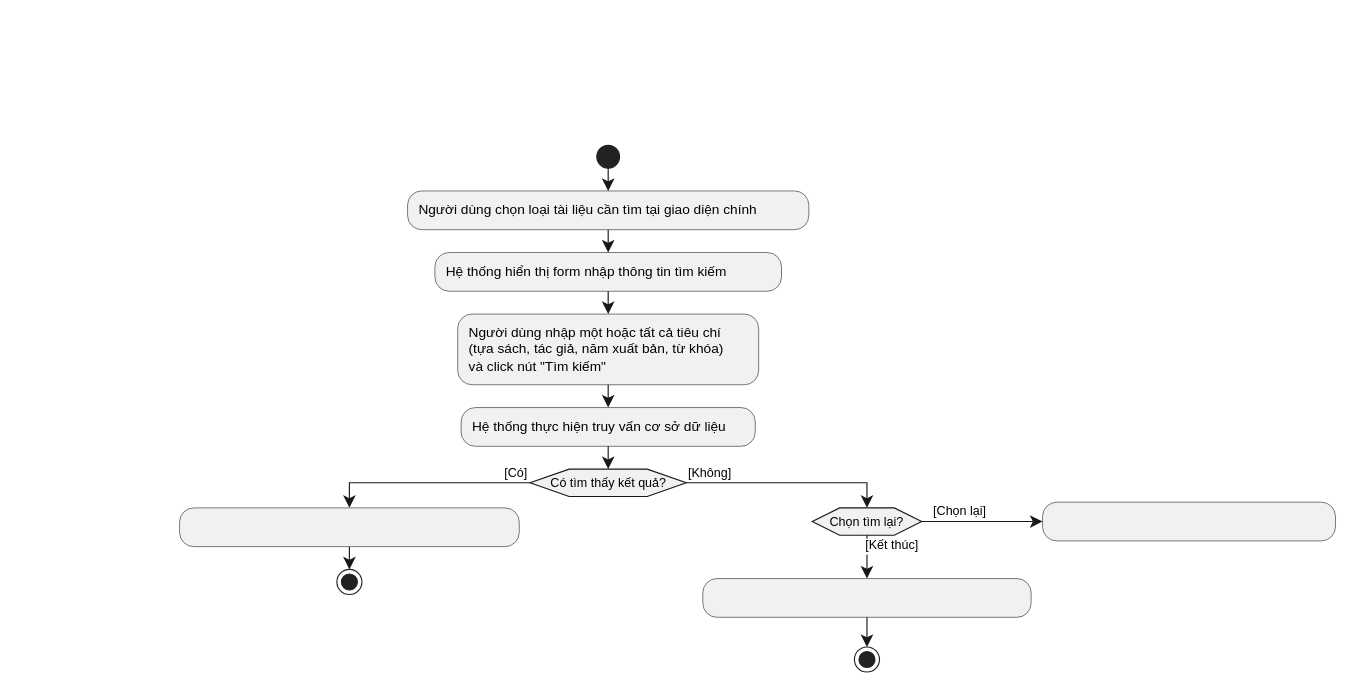
This 1355x692 diagram has some shape labels left out. The centre of each missing label's shape, as x and y in pixels:
"Hệ thống hiển thị bảng/form kết quả tìm kiếm" goes at [349,526].
"Hệ thống hiển thị thông báo không có tài liệu" goes at [866,597].
"Người dùng chọn lại chức năng tìm kiếm" goes at [1188,521].
